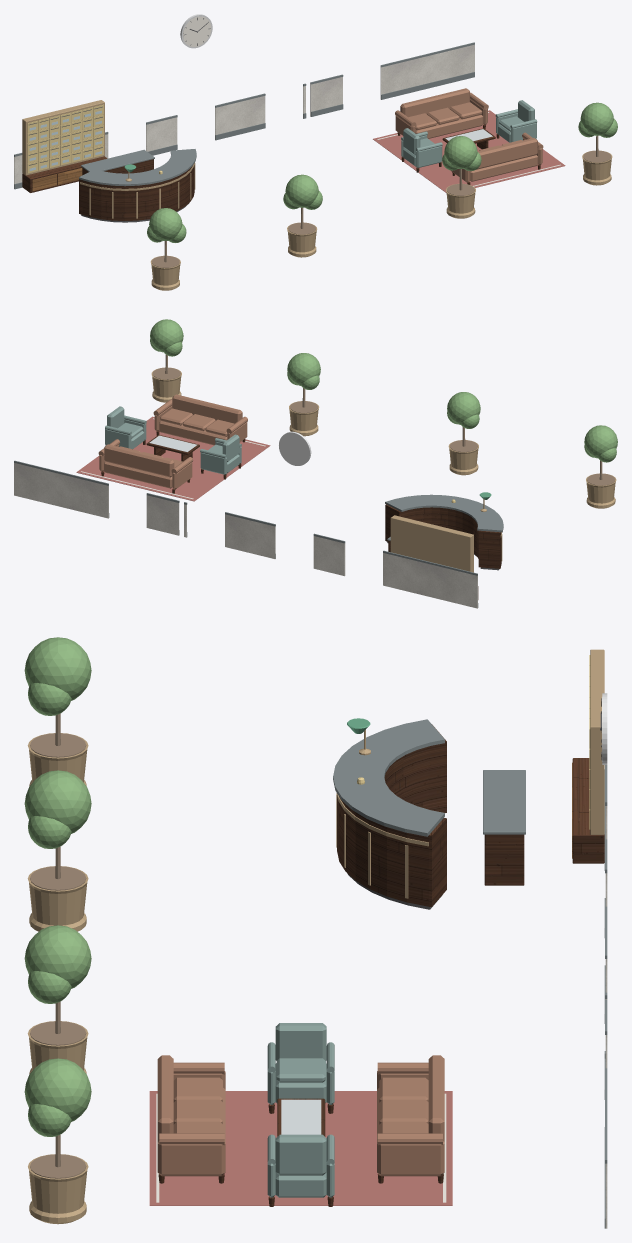
File: lobby.glb
3 renders of one model, top to bottom at view 1: azimuth 30°, elevation 25°; view 2: azimuth 150°, elevation 25°; view 3: azimuth 270°, elevation 25°, orthographic. The views are drawn at different scales.
Parts seen in each view (by area): view 1: lobby_marble, lobby_leather, lobby_dkwood, lobby_bronze, lobby_marble_d, lobby_plant, lobby_gold, lobby_rug, lobby_fabric, lobby_mulch, lobby_cream, lobby_glass (+2 smaller); view 2: lobby_marble, lobby_leather, lobby_bronze, lobby_plant, lobby_rug, lobby_dkwood, lobby_marble_d, lobby_fabric, lobby_mulch, lobby_chrome, lobby_mirror; view 3: lobby_rug, lobby_plant, lobby_leather, lobby_dkwood, lobby_bronze, lobby_marble_d, lobby_fabric, lobby_mulch, lobby_mirror.
Part boxes in pixels (left/top/right/bottom): lobby_marble: left=14, top=44, right=474, bottom=188; lobby_leather: left=395, top=88, right=543, bottom=182; lobby_dkwood: left=22, top=124, right=540, bottom=220; lobby_bronze: left=22, top=100, right=612, bottom=290; lobby_marble_d: left=14, top=42, right=474, bottom=189; lobby_plant: left=147, top=102, right=617, bottom=242; lobby_gold: left=27, top=104, right=162, bottom=174; lobby_rug: left=373, top=110, right=565, bottom=192; lobby_fabric: left=401, top=100, right=537, bottom=167; lobby_mulch: left=151, top=150, right=611, bottom=267; lobby_cream: left=183, top=16, right=560, bottom=186; lobby_glass: left=29, top=110, right=101, bottom=170; lobby_marble: left=14, top=463, right=477, bottom=608; lobby_leather: left=98, top=394, right=247, bottom=489; lobby_bronze: left=151, top=367, right=616, bottom=572; lobby_plant: left=150, top=319, right=617, bottom=462; lobby_rug: left=76, top=416, right=270, bottom=501; lobby_dkwood: left=101, top=431, right=501, bottom=599; lobby_marble_d: left=14, top=460, right=503, bottom=607; lobby_fabric: left=105, top=406, right=241, bottom=474; lobby_mulch: left=152, top=367, right=615, bottom=485; lobby_chrome: left=279, top=431, right=311, bottom=465; lobby_mirror: left=149, top=435, right=197, bottom=452; lobby_rug: left=149, top=1091, right=452, bottom=1205; lobby_plant: left=24, top=637, right=91, bottom=1136; lobby_leather: left=157, top=1055, right=444, bottom=1176; lobby_dkwood: left=158, top=724, right=604, bottom=1206; lobby_bronze: left=27, top=649, right=604, bottom=1224; lobby_marble_d: left=333, top=719, right=607, bottom=1228; lobby_fabric: left=267, top=1023, right=334, bottom=1197; lobby_mulch: left=30, top=733, right=86, bottom=1178; lobby_mirror: left=281, top=1099, right=321, bottom=1134.
Size of the model in its own units: 13.46 by 3.6 by 7.31.
18 materials, 3 textured.
